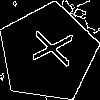X: (23, 28, 73, 68)
